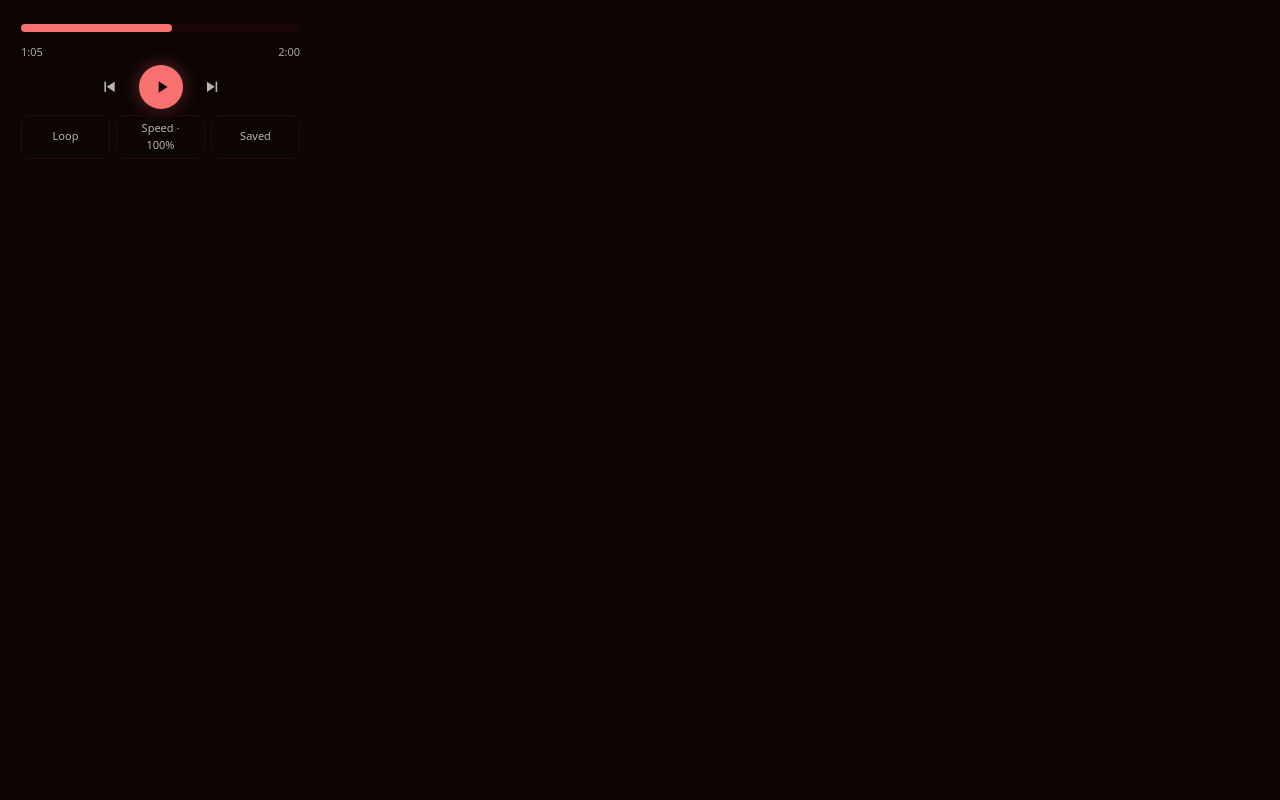
Test case: mobile play-mode control dock › keeps the AB loop controls and the volume slider out of the DOM until a chip opens the drawer
Click the button "Loop" at (66,136), box [21,114,110,158]
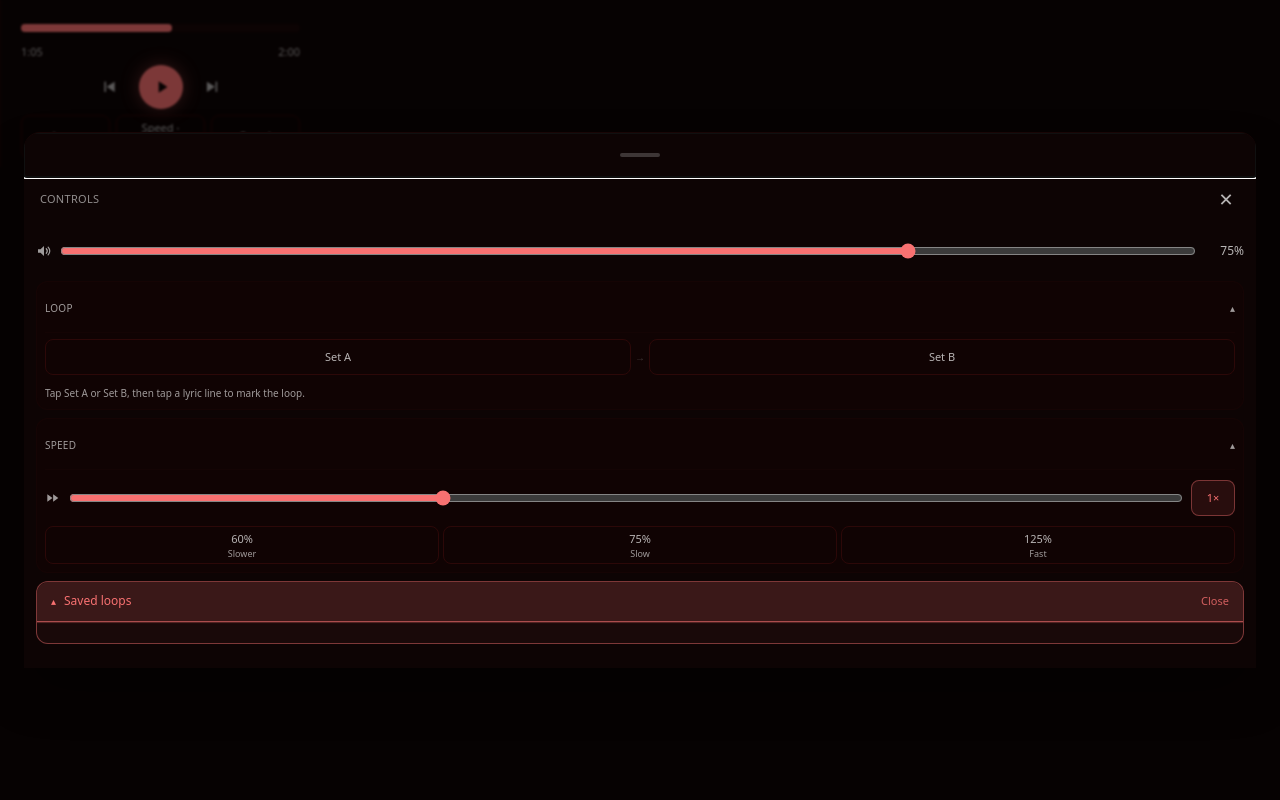
Check: the element named "a-b loop" is shown, box [36,281,1244,410]
Check: the slider named "Volume" is shown, box [60,229,1196,273]
Check: the button with aria-label "A loop point" is shown, box [45,339,631,375]
